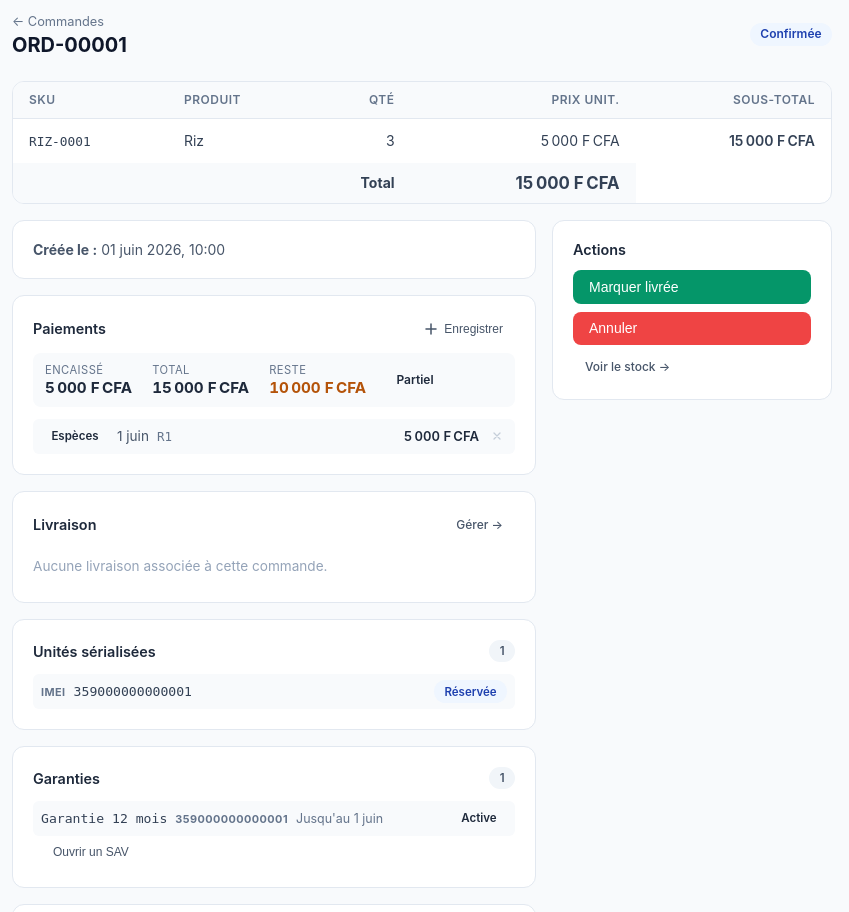
Test: OrderDetailView › surfaces an error when voiding a payment fails (was silently swallowed)
The image size is (849, 912).
Click the button with class "btn-icon-sm": (497, 436) x1=487 y1=426 x2=507 y2=446
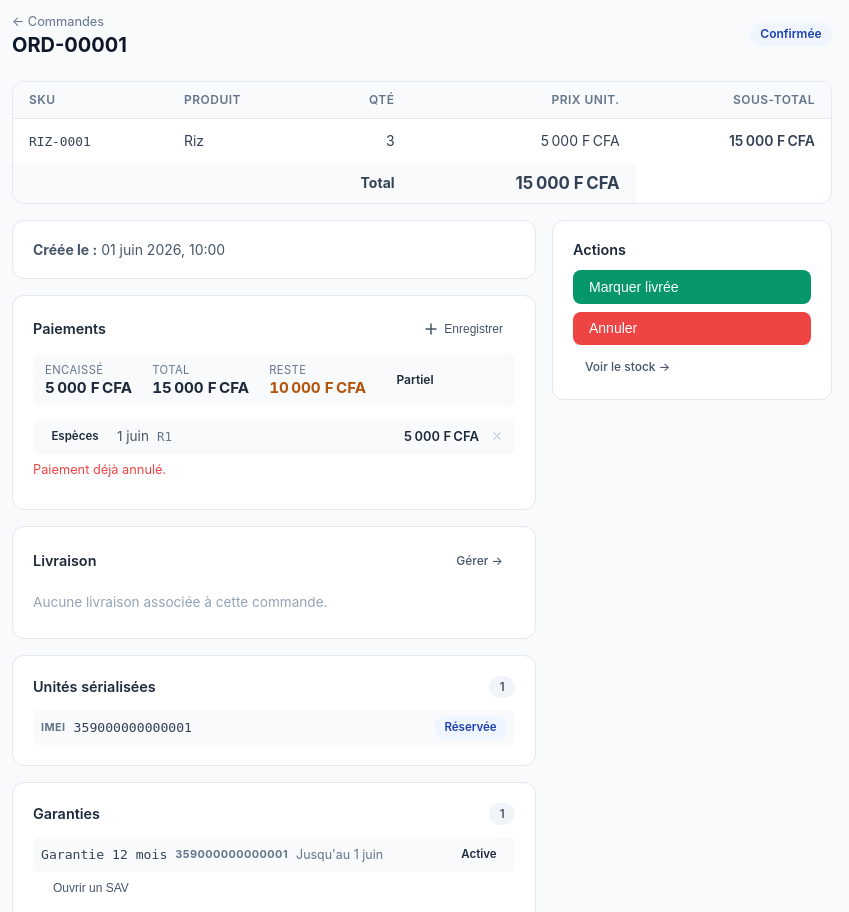
Result: the text "déjà annulé" is shown at x1=33 y1=462 x2=166 y2=477
